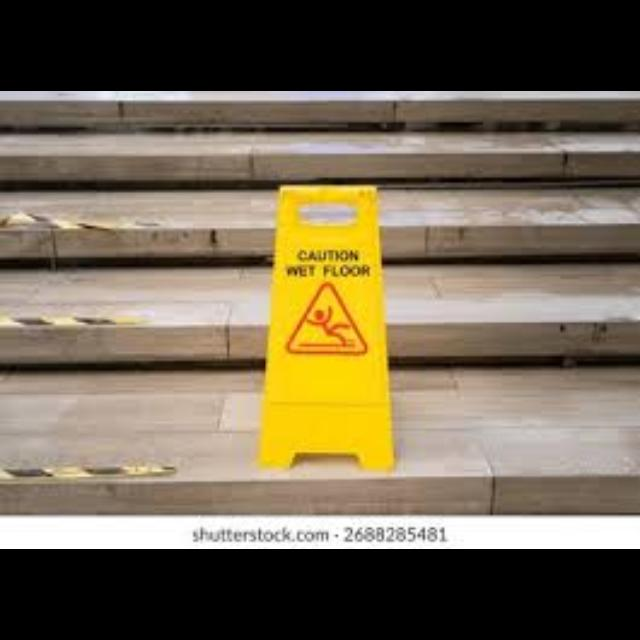slippery_floor: (258, 185, 394, 470)
